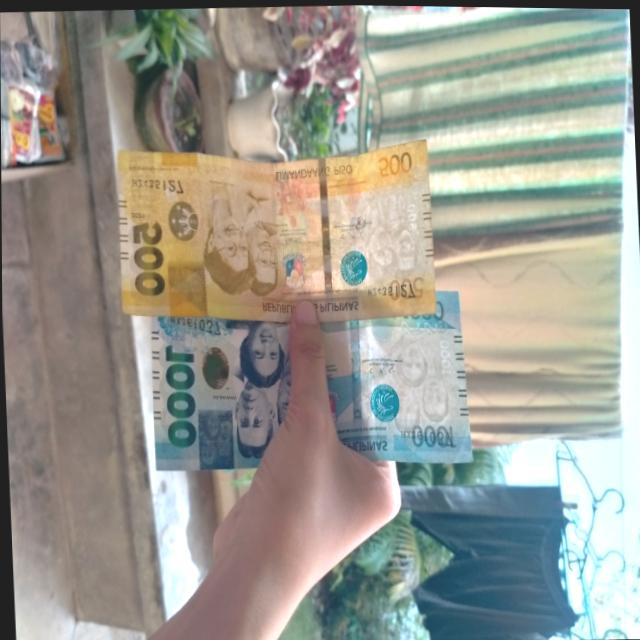concealed_value: (166, 255, 208, 316), (197, 406, 233, 468)
optically_variable_device: (195, 338, 233, 394), (164, 194, 204, 245)
security_thread: (317, 156, 332, 318), (349, 317, 363, 461)
see_through_mark: (396, 315, 450, 337), (364, 174, 413, 192)
serial_number: (168, 312, 222, 337), (130, 172, 186, 194), (399, 425, 454, 447), (366, 279, 415, 300)
value: (163, 342, 197, 449), (129, 218, 167, 296)
value_watermark: (437, 336, 451, 376), (403, 198, 418, 232)
watermark: (388, 330, 450, 433), (361, 181, 416, 281)
